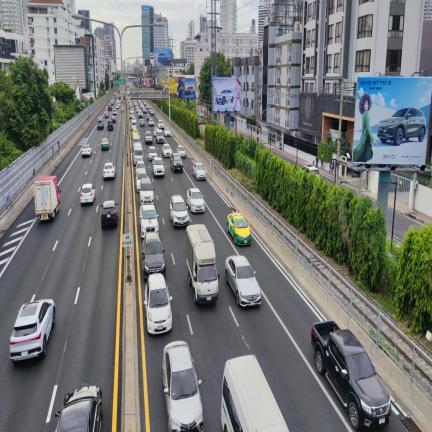car: (163, 341, 204, 431), (10, 299, 55, 362), (55, 384, 102, 431), (225, 256, 261, 305), (144, 275, 172, 334), (142, 232, 165, 278), (139, 204, 158, 238), (170, 195, 188, 226), (101, 200, 118, 228), (187, 188, 205, 212), (139, 178, 154, 204), (80, 184, 96, 205), (136, 170, 148, 192), (170, 152, 183, 172), (152, 157, 164, 176), (133, 142, 143, 164), (193, 163, 206, 179), (103, 163, 114, 178), (81, 144, 92, 157), (148, 146, 157, 160), (162, 144, 171, 157), (177, 145, 185, 158), (136, 161, 145, 172), (101, 138, 109, 149), (145, 131, 152, 143), (97, 119, 104, 129), (164, 127, 171, 136), (158, 120, 164, 130), (132, 134, 140, 141), (131, 119, 136, 130), (139, 118, 145, 127), (108, 121, 113, 130), (133, 127, 139, 134), (148, 118, 154, 125), (104, 111, 109, 118), (131, 115, 136, 122), (111, 117, 116, 123), (149, 109, 154, 115), (154, 128, 157, 137), (147, 114, 151, 120), (138, 112, 142, 118), (113, 110, 116, 115)
pickup: (311, 321, 390, 430)
taxi: (227, 211, 251, 244)
truck: (186, 224, 219, 304), (34, 176, 60, 220), (155, 128, 163, 142)
van: (221, 356, 288, 431), (133, 143, 143, 164), (155, 128, 163, 142)
